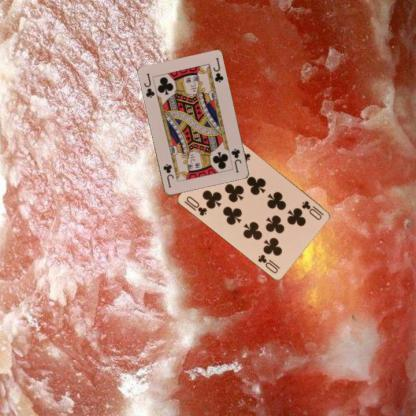10c: (300, 198, 326, 221), (184, 194, 208, 218)
Jc: (228, 146, 243, 174), (142, 70, 156, 100)
